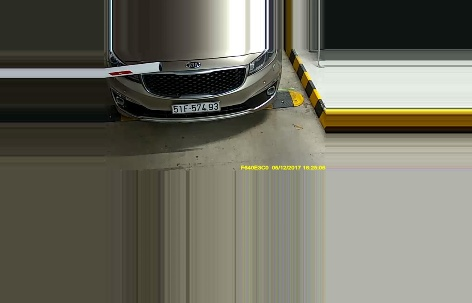plate: (167, 101, 223, 116)
